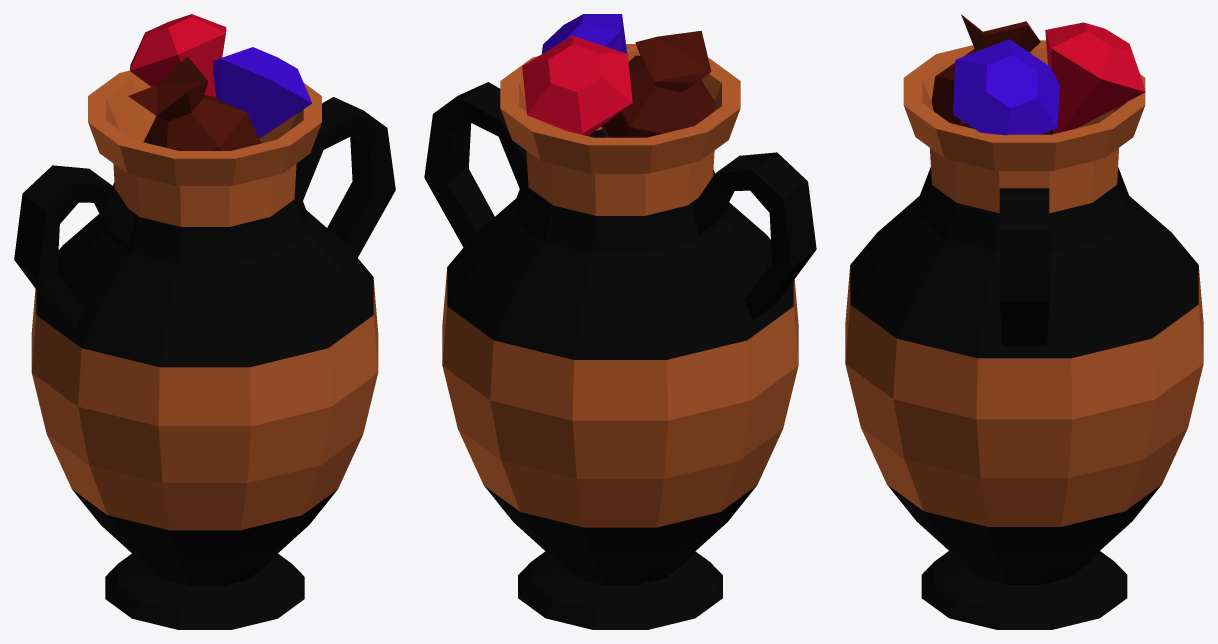
Rendered from amphora.fbx.
3 renders of one model, left to right at view 1: azimuth 30°, elevation 25°; view 2: azimuth 150°, elevation 25°; view 3: azimuth 270°, elevation 25°, orthographic. The views are drawn at different scales.
Parts seen in each view (by area): view 1: Cylinder, MOENY, Gem.001, Gem; view 2: Cylinder, Gem, MOENY, Gem.001; view 3: Cylinder, Gem.001, Gem, MOENY.
Boxes of the visible parts, <box> form: Cylinder: <box>14,70,395,629</box>; MOENY: <box>128,56,261,185</box>; Gem.001: <box>213,47,312,138</box>; Gem: <box>130,14,226,97</box>; Cylinder: <box>424,44,816,629</box>; Gem: <box>522,35,632,136</box>; MOENY: <box>601,30,715,137</box>; Gem.001: <box>541,14,627,53</box>; Cylinder: <box>845,40,1203,629</box>; Gem.001: <box>953,39,1059,135</box>; Gem: <box>1045,22,1145,133</box>; MOENY: <box>931,14,1050,134</box>.
Bounding box in the file's own units: 977 × 1423 × 820.
